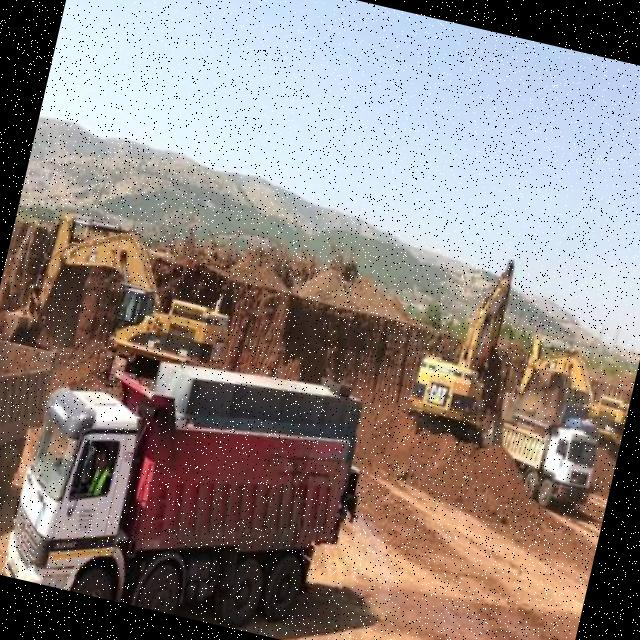Dump Truck: (1, 323, 365, 640), (486, 404, 601, 522)
Excavator: (0, 202, 243, 394), (397, 238, 528, 452), (499, 328, 640, 448)
